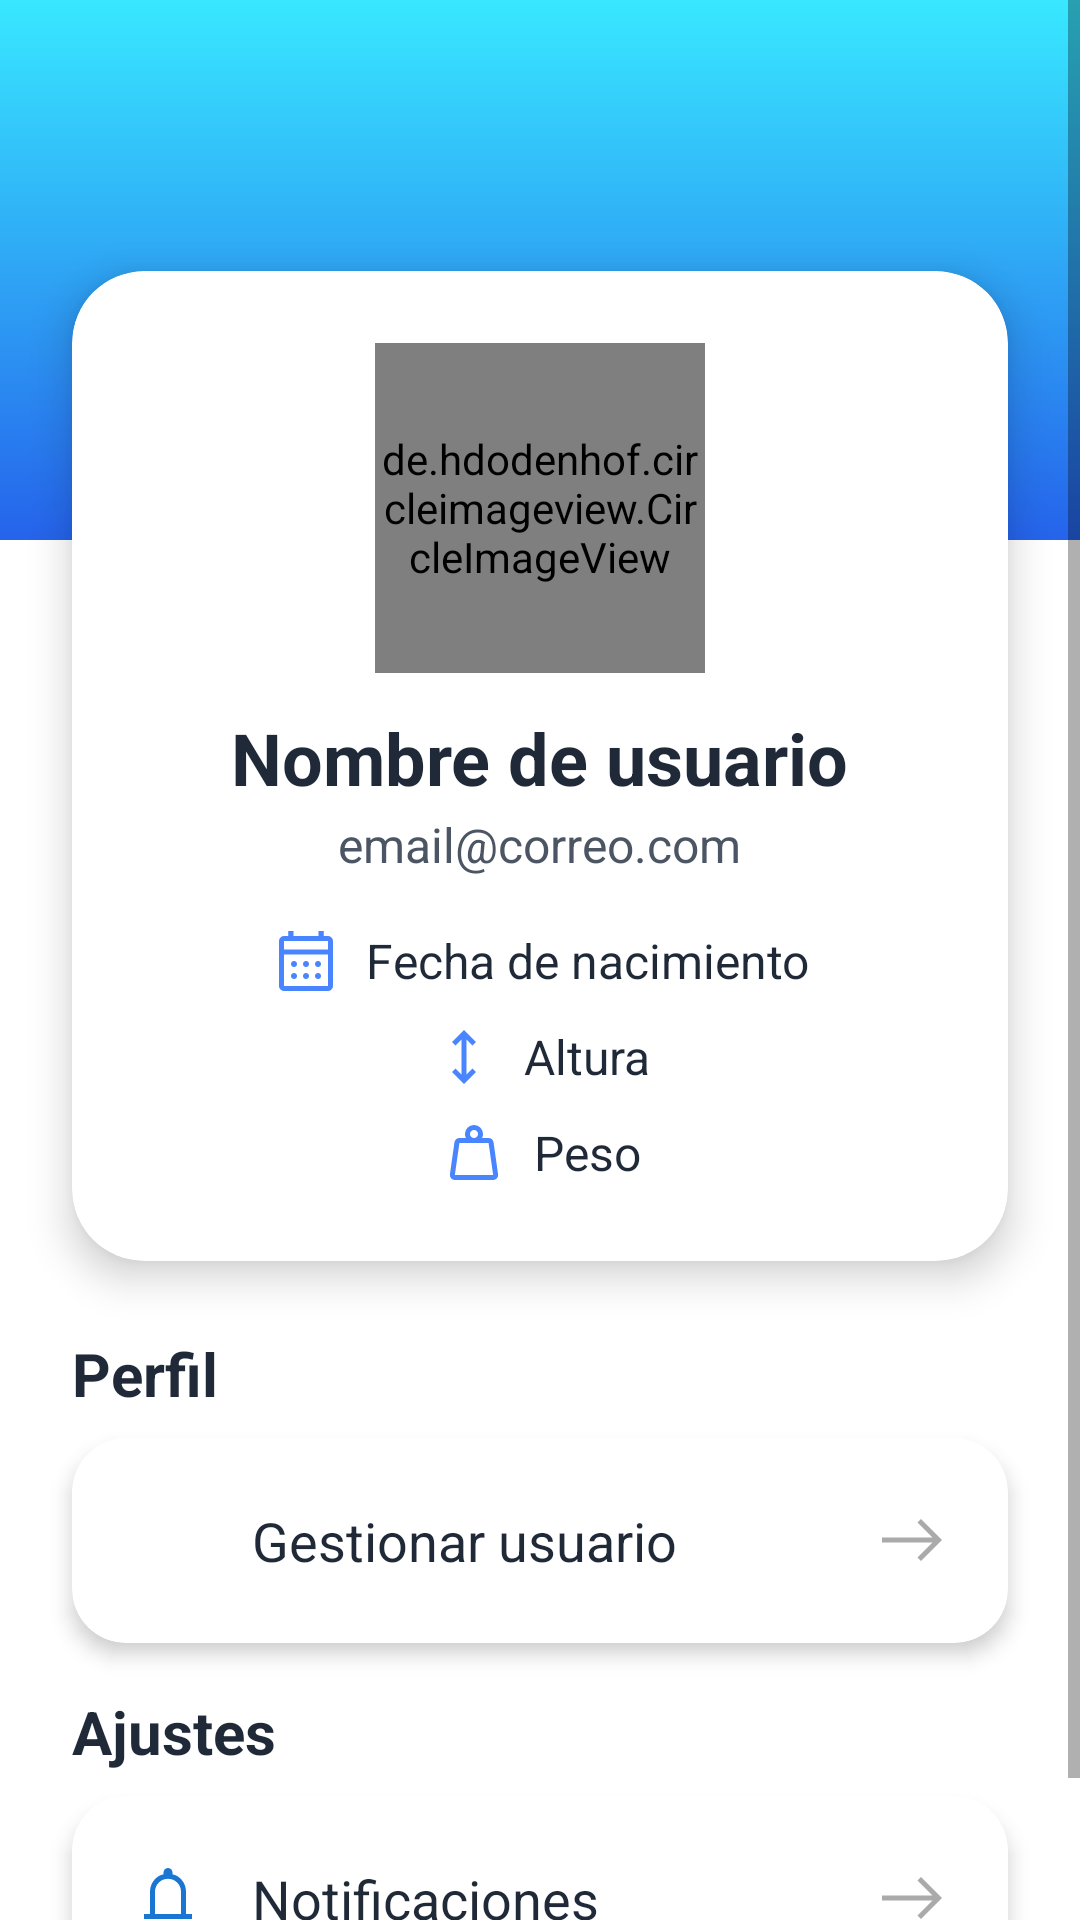

Named icons in this screenshot (1080x1920) and their centers, (x=x, y=y):
calendar: (x=306, y=961)
height: (x=464, y=1057)
weight: (x=474, y=1152)
